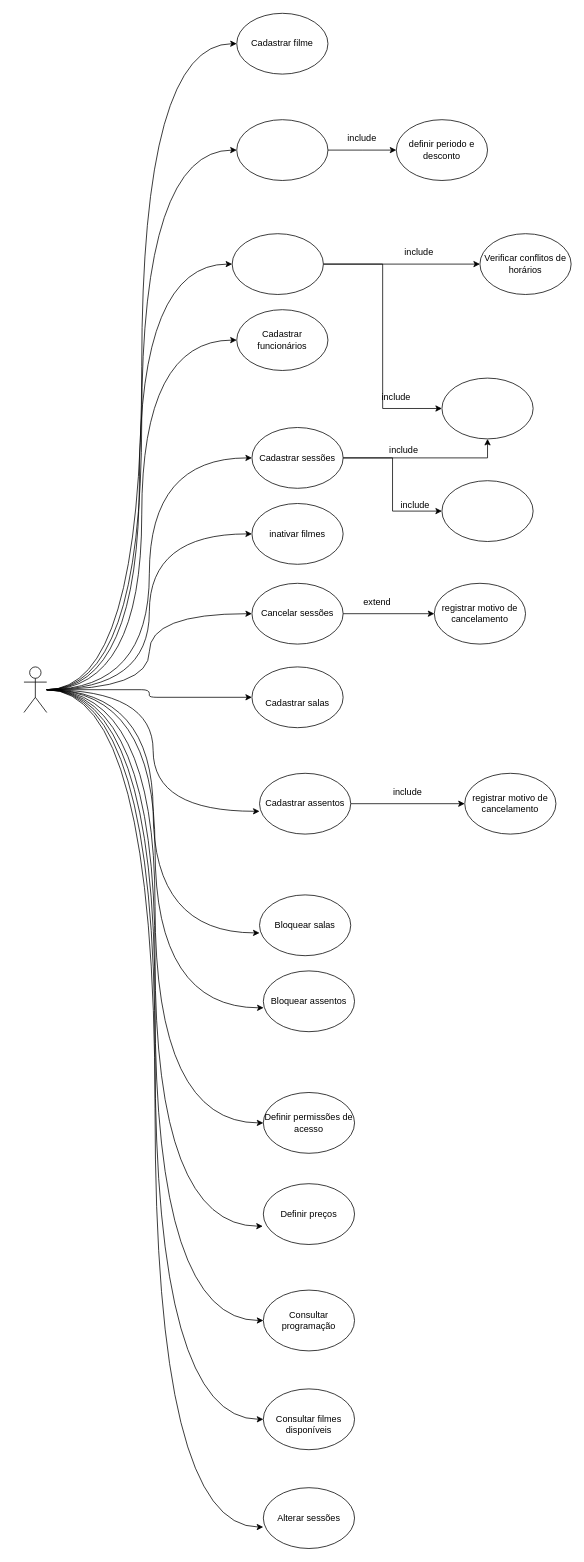
Some shapes in this 584 by 1562 pixel diagram are drawn without their labels. The centre of each missing label's shape, as x and y in pixels:
alterar informações do filme: the point at 277,263
Cadastrar promoções: the point at 282,149
GERENTE: the point at 35,689
verificar disponibilidade da sala: the point at 487,408
verificar recursos tecnicos: the point at 487,511
